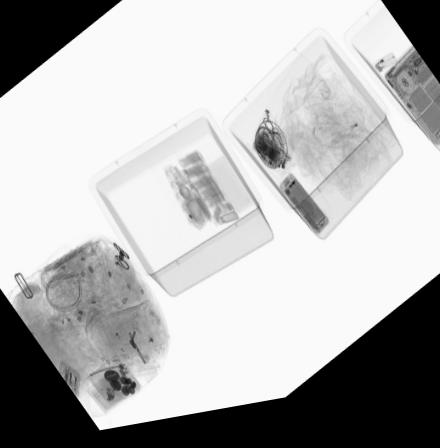Lighter: (373, 63, 400, 86)
